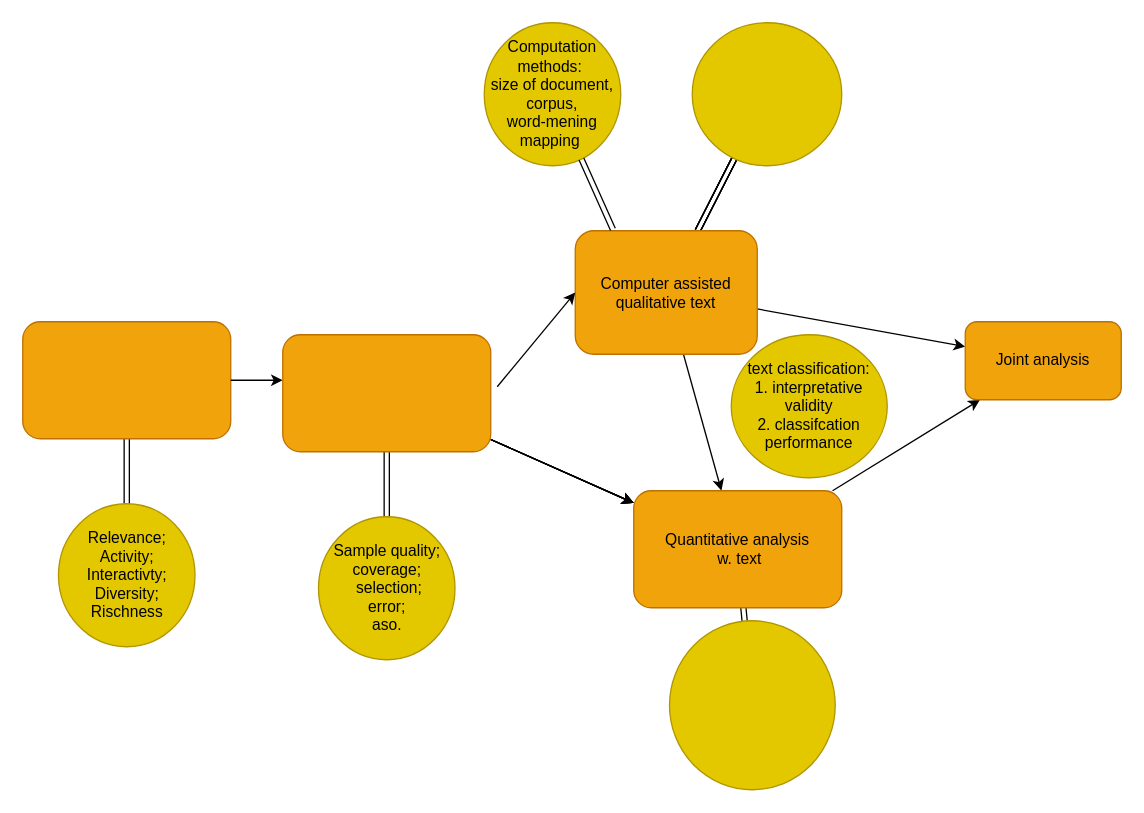
This 1144x813 diagram has some shape labels left out. The centre of each missing label's shape, as x and y in pixels:
Large scale data collection: the point at 386,392
Netnography scouting, evaluating and selection of data site: the point at 126,379
qualitative reading: depth, diversity, contextual, interactivity: the point at 766,93
quant data quality: coverage Validity measurement error: the point at 751,704
